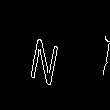N_N: (37, 25, 73, 85)
